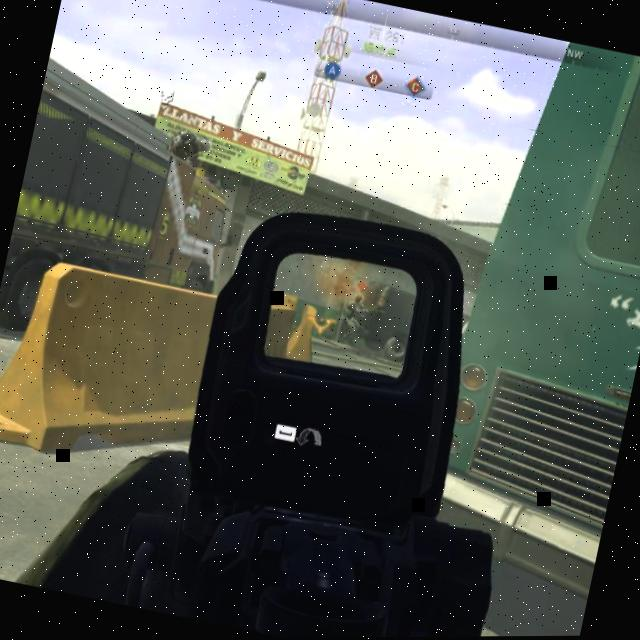MW2_body: (336, 277, 374, 349)
